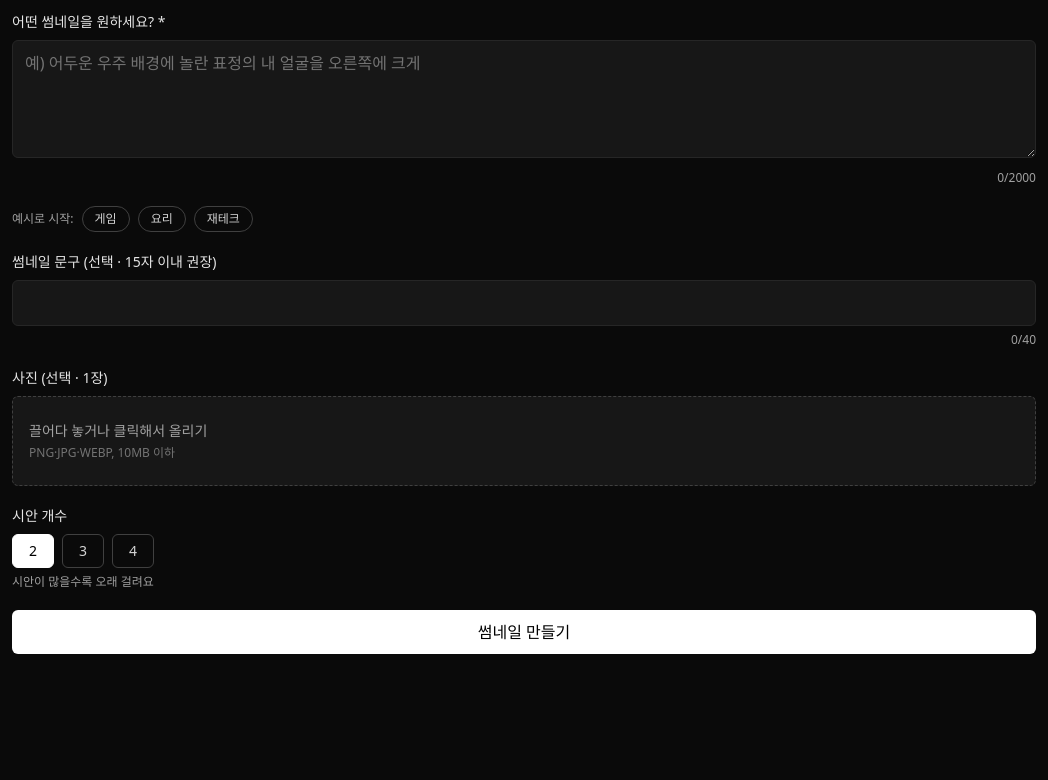
Test: 제출 › 에러가 난 필드를 고치면 그 필드의 에러가 사라진다
Step 1. Click the button "썸네일 만들기" → click(524, 632), box [12,610,1036,654]
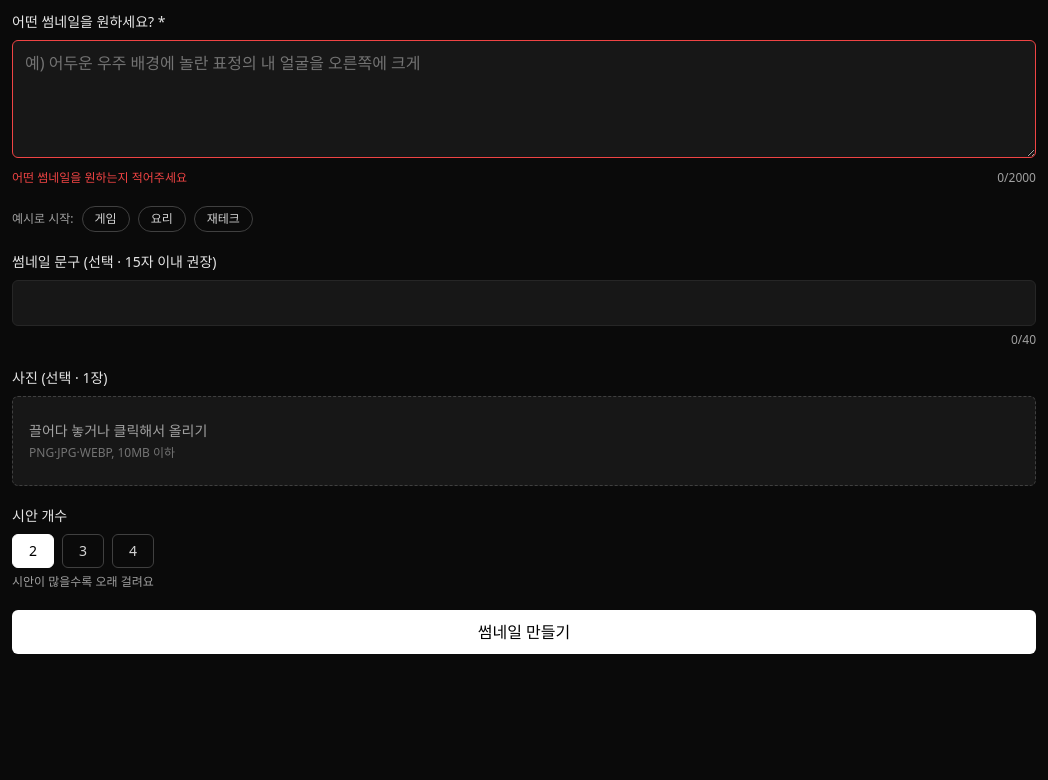
Step 2. Type "우" into the text box labelled "어떤 썸네일을 원하세요? *" → (524, 99), box [12,40,1036,158]
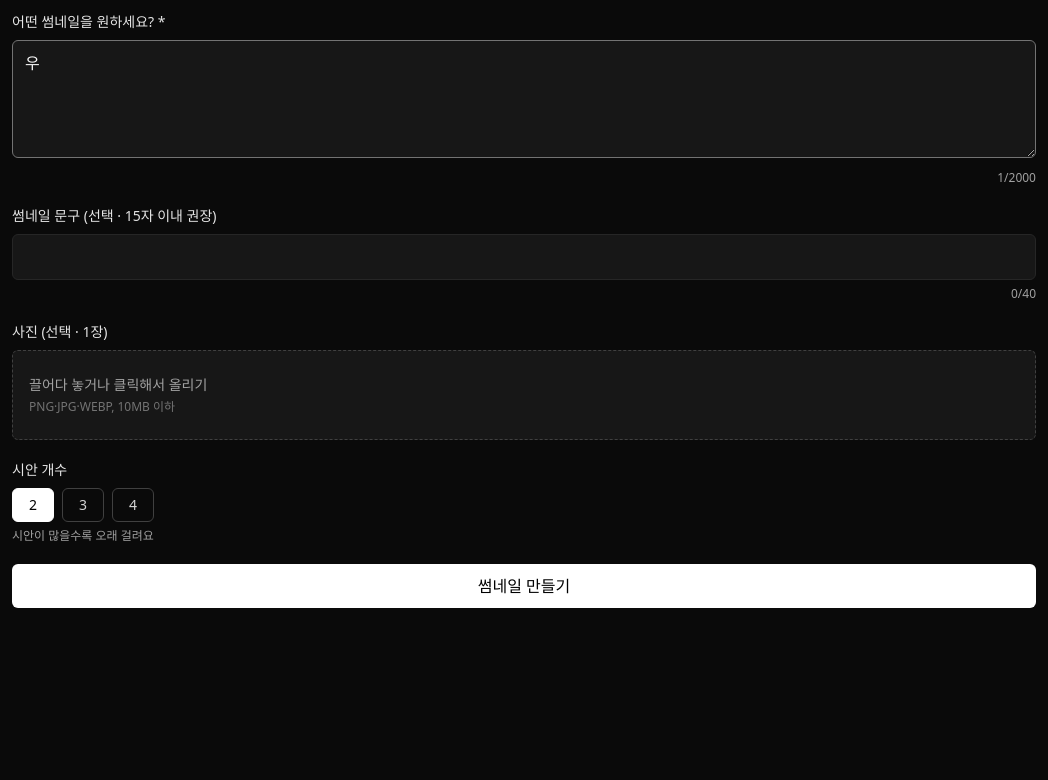
Result: the text "어떤 썸네일을 원하는지 적어주세요" is gone
